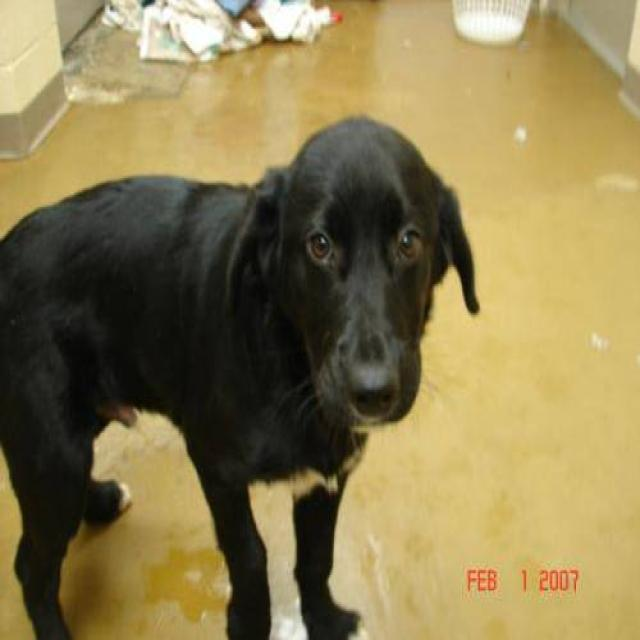dog: (0, 111, 480, 638)
